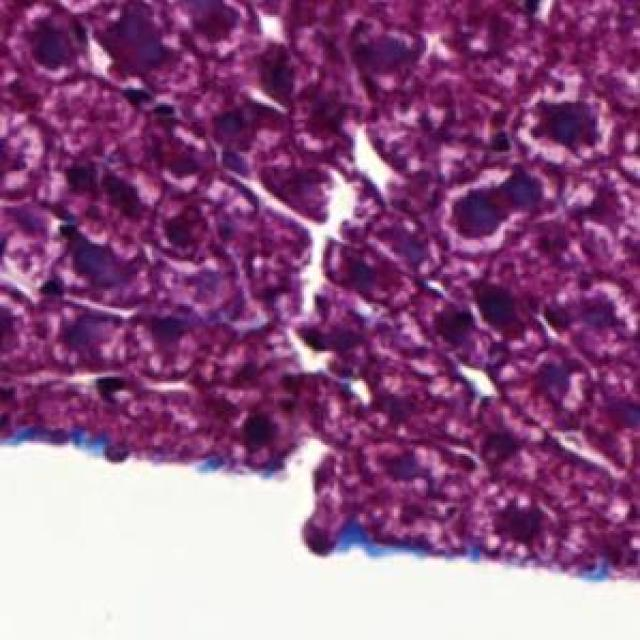inflammation: (439, 161, 571, 274), (518, 84, 614, 158)
